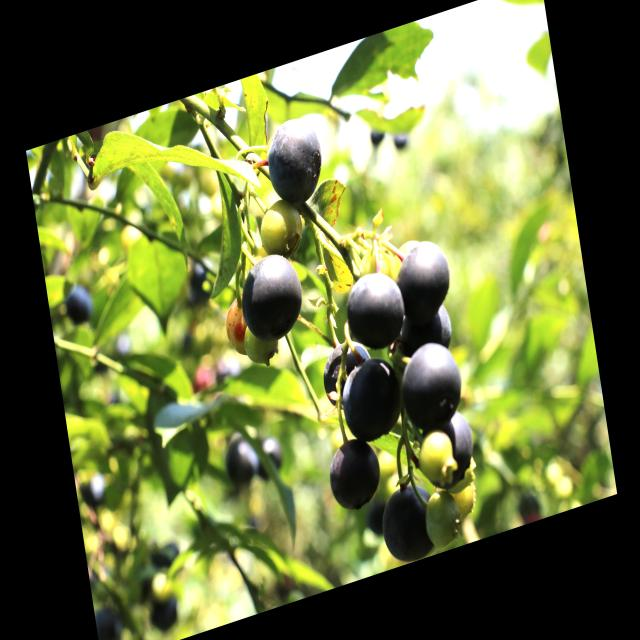blueberry: (396, 334, 469, 440), (236, 246, 308, 349), (341, 255, 414, 353), (332, 349, 404, 445), (260, 115, 330, 212), (391, 230, 456, 324), (319, 431, 386, 519), (376, 478, 438, 568), (428, 400, 482, 492)
blueberry-halfripe: (222, 289, 256, 360)
blueberry-unripe: (256, 194, 307, 265), (419, 486, 466, 554), (414, 427, 459, 495)
